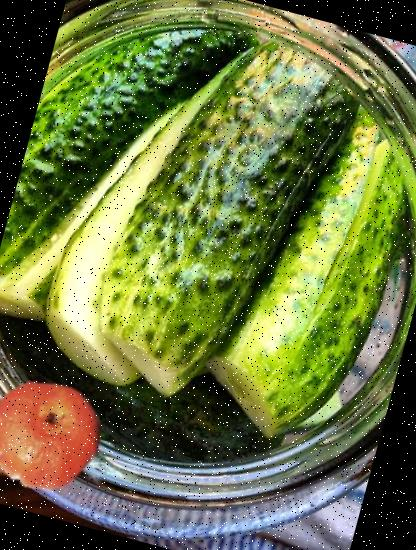Clementine: (0, 362, 118, 508)
